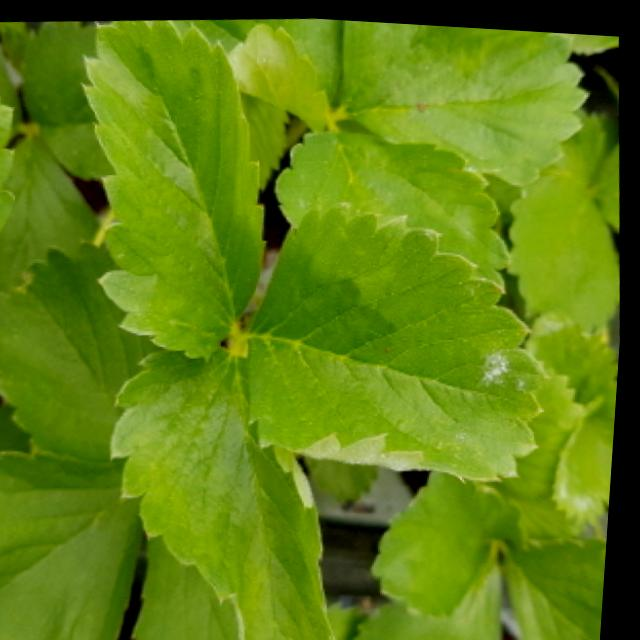Powdery Mildew Leaf: (247, 195, 553, 478), (555, 384, 621, 520)
